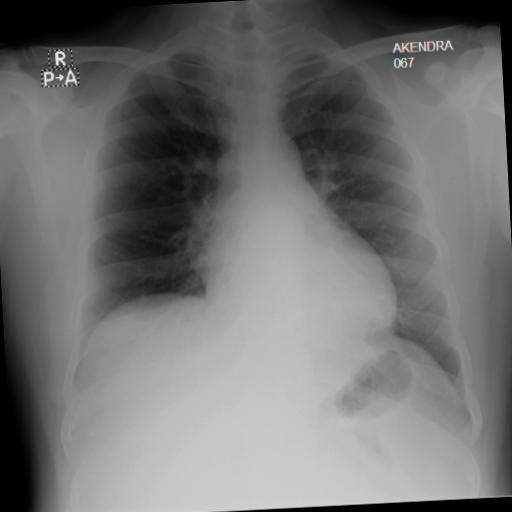kardiomegali: (35, 5, 484, 442)
